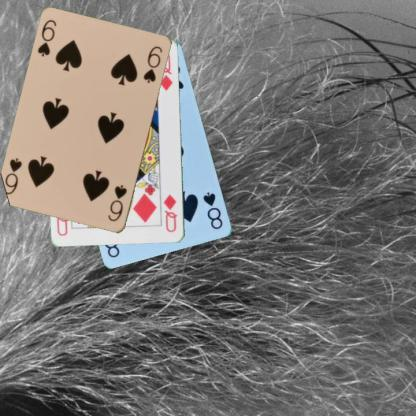6s: (34, 18, 58, 58), (106, 182, 128, 223)
8s: (201, 190, 224, 231)
Qd: (160, 192, 178, 233)
